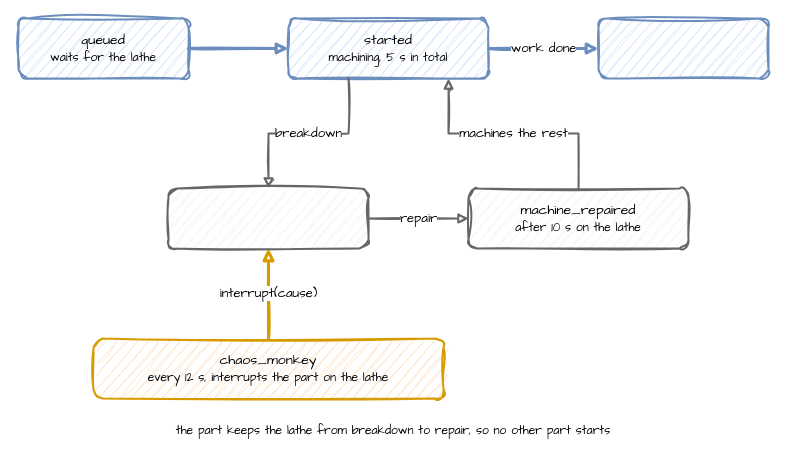
The diagram is 786 pixels wide and 459 high, and some of its shapes have lost their labels. Each missing label, with the centre of its shape:
finished releases the lathe: the point at 683,48
interrupted publishes the cause: the point at 268,218
